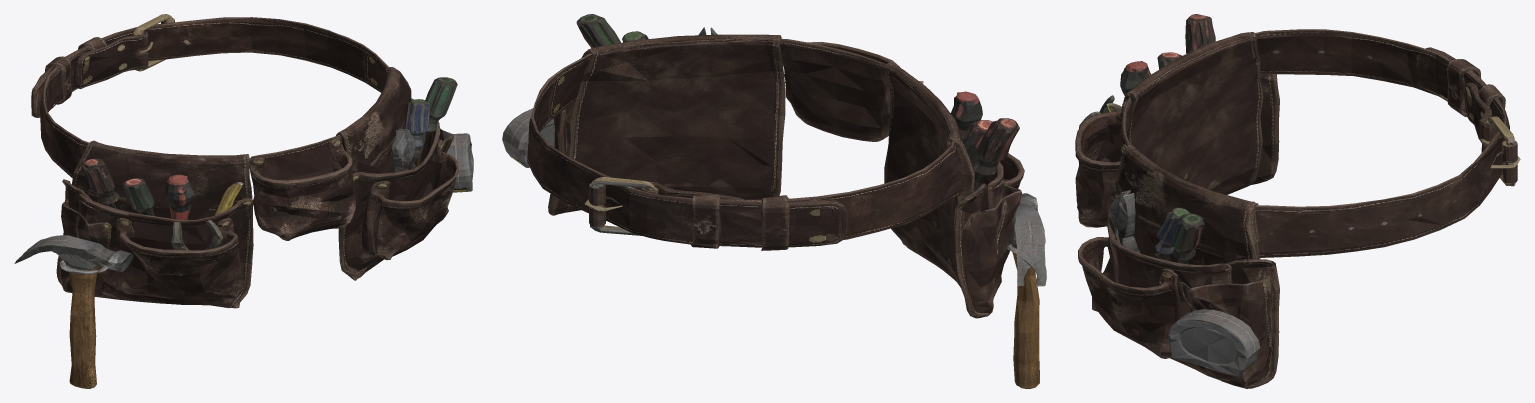
File: ewm_toolbelt.glb
3 views of the same model, side by side, from view 1: azimuth 30°, elevation 25°; view 2: azimuth 150°, elevation 25°; view 3: azimuth 270°, elevation 25° (orthographic). The views are drawn at different scales.
Parts seen in each view (by area): view 1: ewm_toolbelt; view 2: ewm_toolbelt; view 3: ewm_toolbelt.
Part boxes in pixels (<box>): ewm_toolbelt: <box>14,14,473,388</box>; ewm_toolbelt: <box>502,14,1046,388</box>; ewm_toolbelt: <box>1075,14,1520,388</box>.
Bounding box in the file's own units: 0.4694 × 0.2144 × 0.3401.
1 material, 1 textured.
